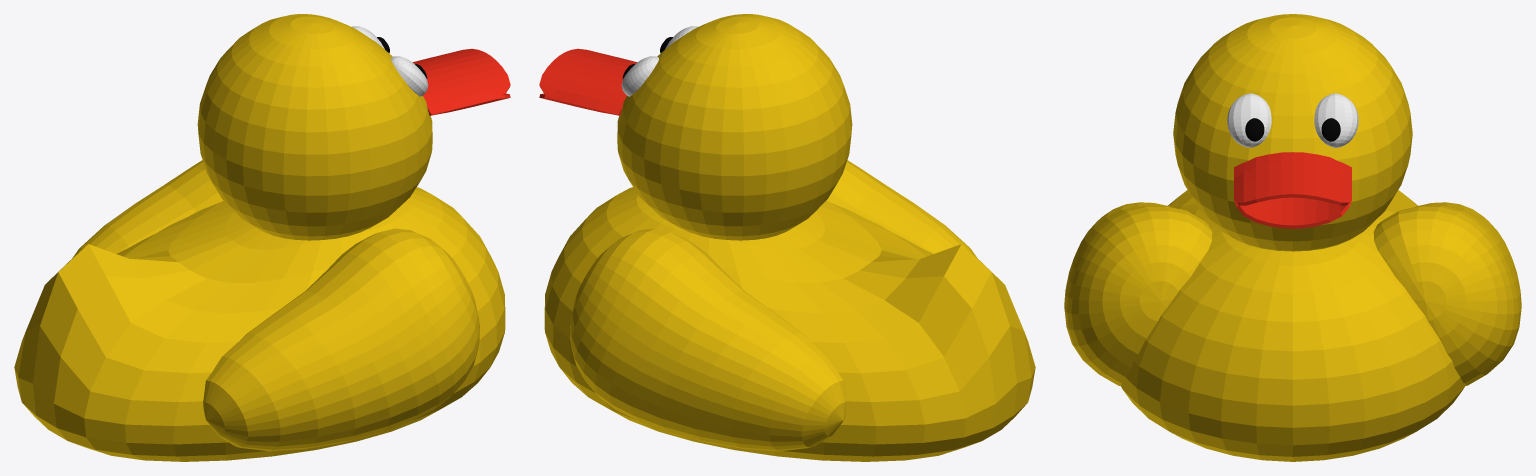
File: duck.glb
The picture shows the model from 3 angles, left to right: view 1: azimuth 30°, elevation 25°; view 2: azimuth 150°, elevation 25°; view 3: azimuth 270°, elevation 25°; orthographic projection. The views are drawn at different scales.
Parts seen in each view (by area): view 1: duck body, duck wings, duck head, duck beack, duck eyes; view 2: duck body, duck wings, duck head, duck beack, duck eyes; view 3: duck body, duck wings, duck head, duck beack, duck eyes, duck pupils.
Boxes of the visible parts, box(x1,y1,x2,y2) form: duck body: box(14, 187, 505, 461); duck wings: box(73, 160, 479, 451); duck head: box(197, 14, 432, 240); duck beack: box(413, 48, 510, 115); duck eyes: box(352, 26, 428, 96); duck body: box(544, 187, 1035, 461); duck wings: box(570, 160, 976, 451); duck head: box(617, 14, 852, 240); duck beack: box(539, 48, 636, 115); duck eyes: box(621, 26, 697, 96); duck body: box(1120, 190, 1465, 461); duck wings: box(1064, 202, 1521, 385); duck head: box(1173, 14, 1412, 251); duck beack: box(1234, 152, 1351, 228); duck eyes: box(1227, 93, 1358, 147); duck pupils: box(1245, 118, 1340, 141).
Bounding box in the file's own units: 0.1264 × 0.0989 × 0.1059.
